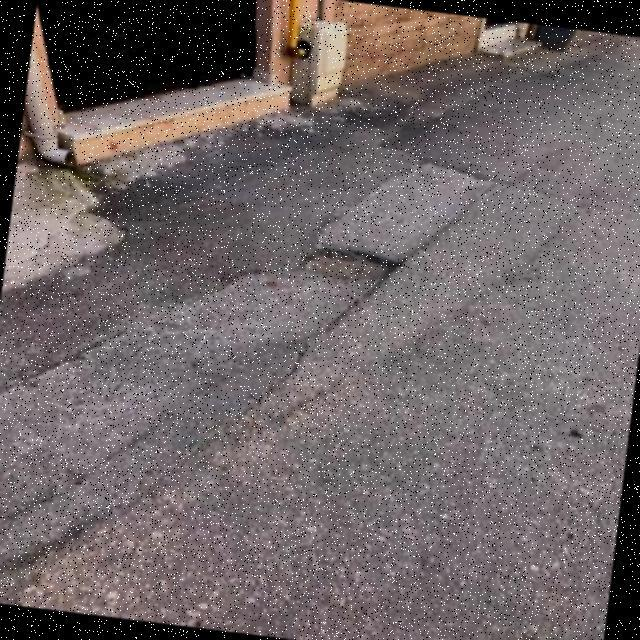Pothole: (154, 250, 398, 343)
